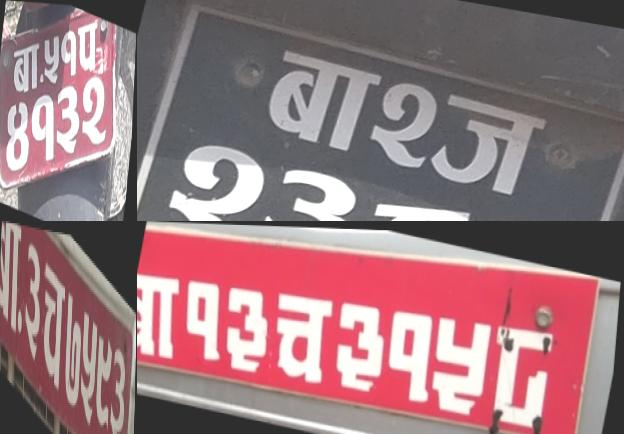0: (11, 33, 42, 98)
1: (377, 299, 448, 406), (174, 274, 236, 368), (79, 70, 112, 148)
2: (154, 131, 283, 221), (364, 70, 453, 175)
3: (254, 152, 378, 221), (324, 295, 394, 397), (214, 277, 280, 378), (22, 225, 44, 365), (29, 87, 61, 164), (109, 328, 128, 434), (58, 25, 80, 78)
5: (422, 305, 500, 420), (79, 290, 98, 434), (3, 94, 35, 179)
6: (41, 28, 62, 86)
7: (64, 273, 83, 415)
8: (480, 314, 565, 432), (353, 181, 484, 221), (74, 12, 100, 71)
9: (94, 311, 114, 434)
ba: (254, 38, 391, 163), (137, 264, 189, 367), (0, 221, 23, 347), (54, 79, 84, 154)
cha: (264, 284, 340, 388), (40, 244, 67, 400)
ja: (426, 82, 561, 206)
